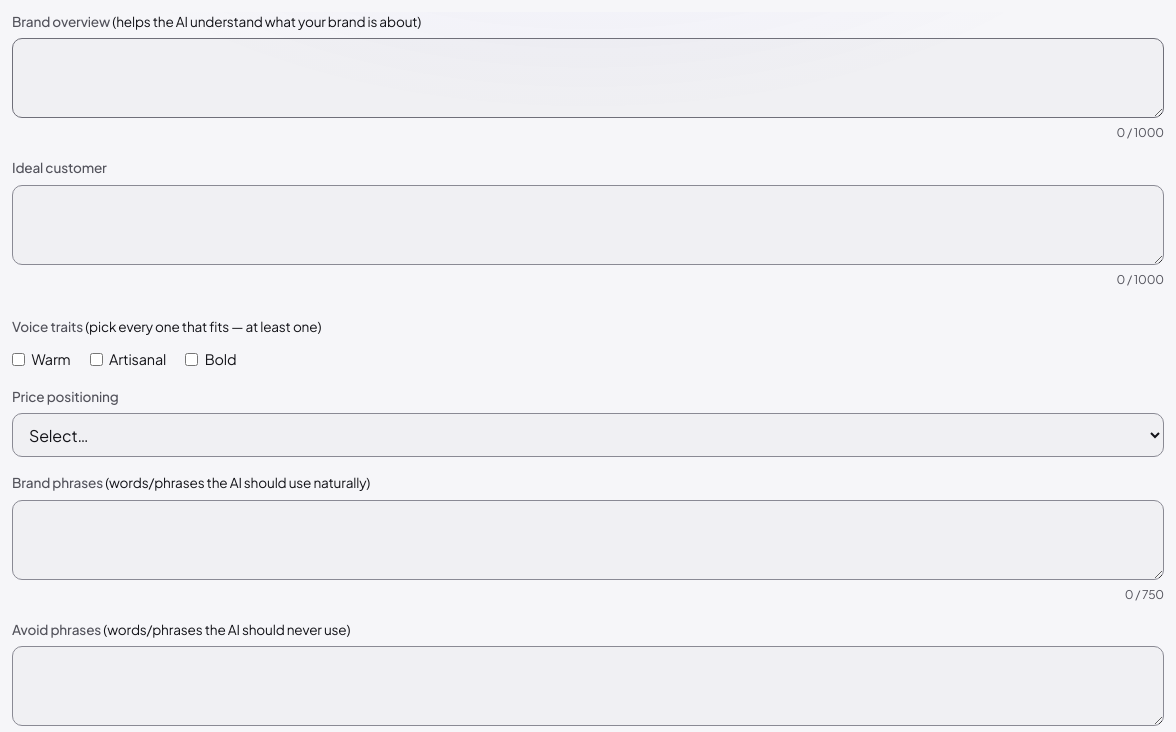
Test case: BrandProfileForm — create mode › updates the character counter as the user types
The width and height of the screenshot is (1176, 732).
Expected: the checkbox labelled "Warm" is shown, [12,354,25,366]
Type "Women 30-55" into the text box labelled "Ideal customer" at (588, 225), box [12,185,1164,265]
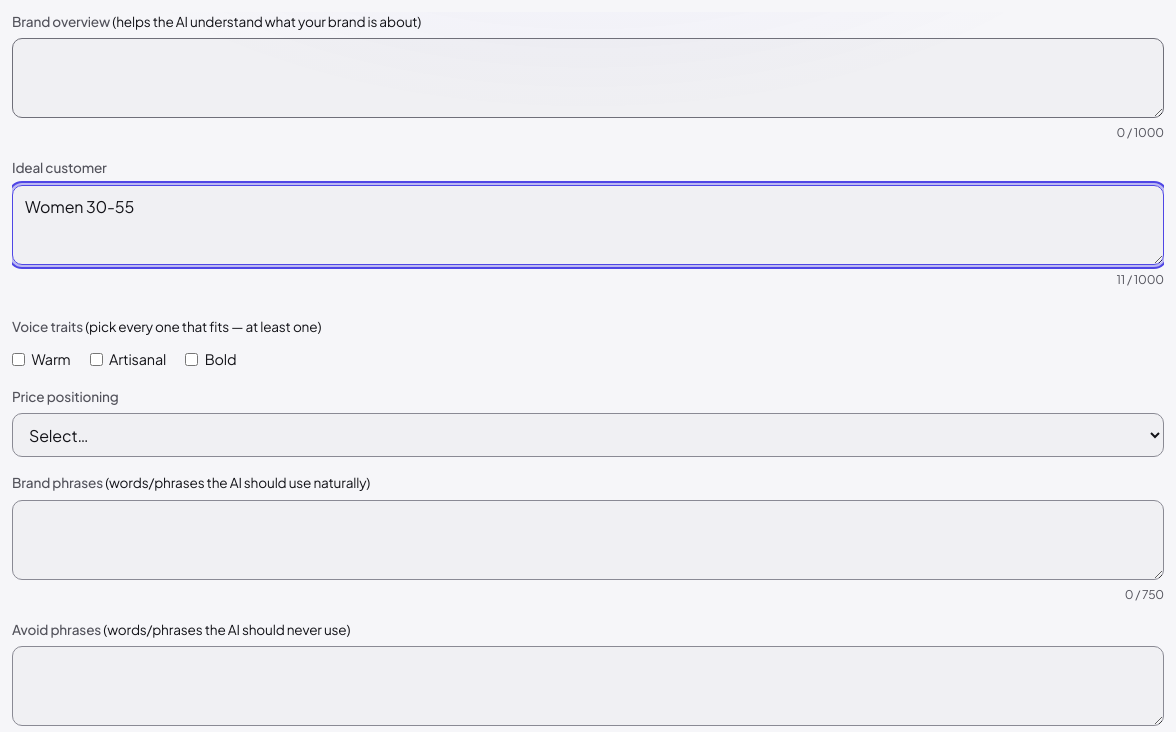
Expected: the text "11 / 1000" is shown, [1116,271,1164,289]
